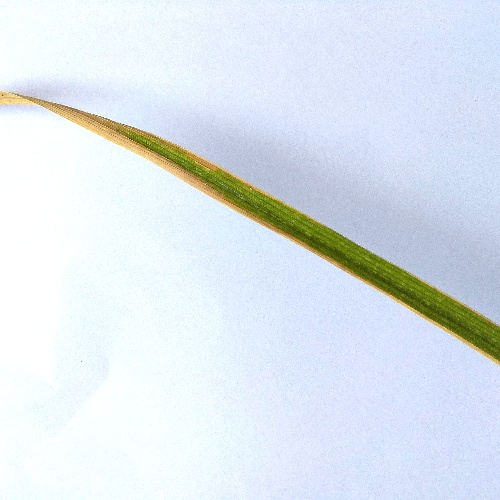Busuk Leher: (5, 83, 72, 118), (64, 114, 131, 149), (129, 143, 171, 180)
